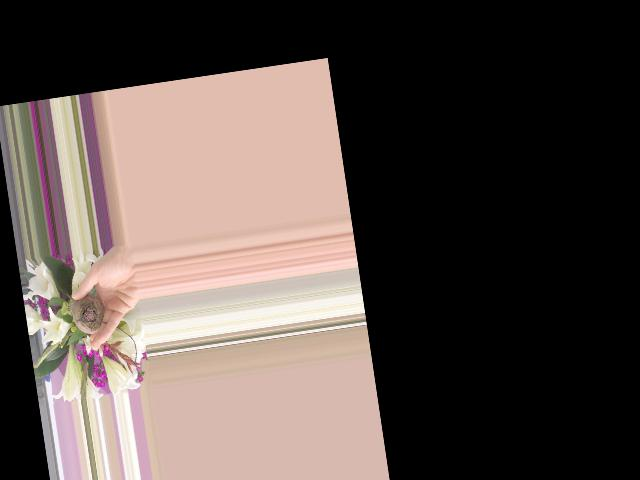beet: (70, 292, 107, 337)
